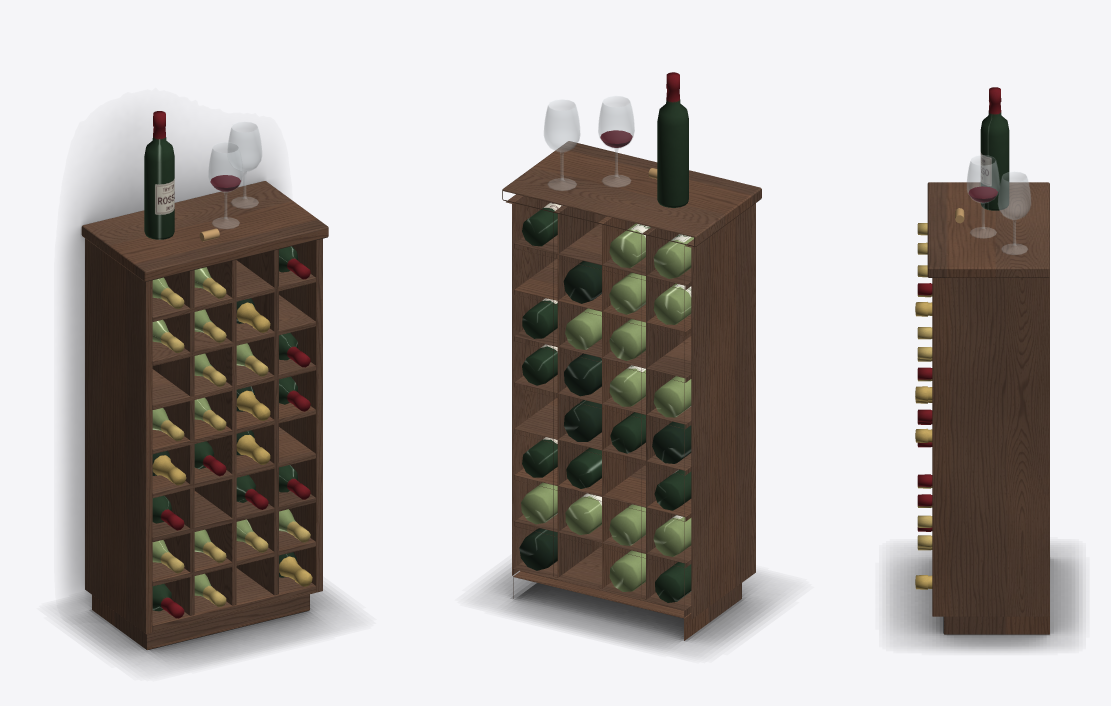
File: wine_rack.glb
3 views of the same model, side by side, from view 1: azimuth 30°, elevation 25°; view 2: azimuth 150°, elevation 25°; view 3: azimuth 270°, elevation 25° (orthographic). The views are drawn at different scales.
Parts seen in each view (by area): view 1: wine_rack_LOD0, wine_rack_Shadow; view 2: wine_rack_LOD0, wine_rack_Shadow; view 3: wine_rack_LOD0, wine_rack_Shadow.
Boxes of the visible parts, x1=… form: wine_rack_LOD0: x1=81, y1=111, x2=328, y2=649; wine_rack_Shadow: x1=57, y1=135, x2=348, y2=668; wine_rack_LOD0: x1=502, y1=72, x2=761, y2=640; wine_rack_Shadow: x1=480, y1=563, x2=784, y2=652; wine_rack_LOD0: x1=915, y1=87, x2=1049, y2=634; wine_rack_Shadow: x1=886, y1=545, x2=1081, y2=650.
Size of what is drawn, in the model's own units: 0.762 by 1.57 by 0.584.
Materials: 5 (4 with a texture image).
